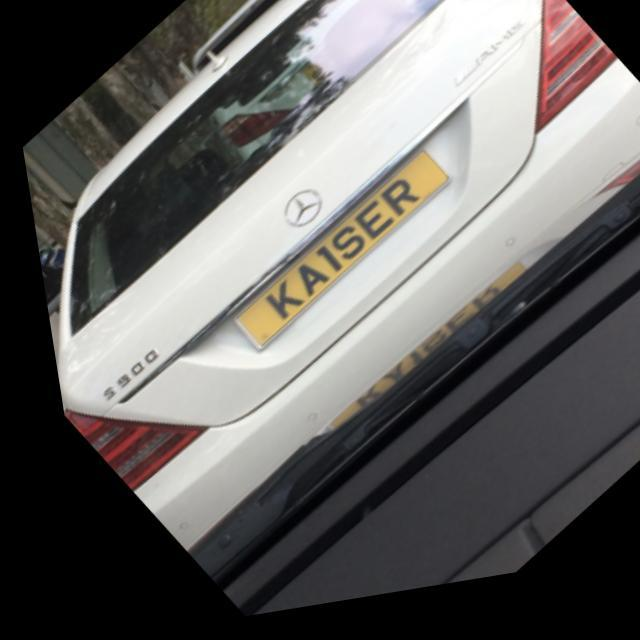license_plate: (198, 154, 463, 365)
